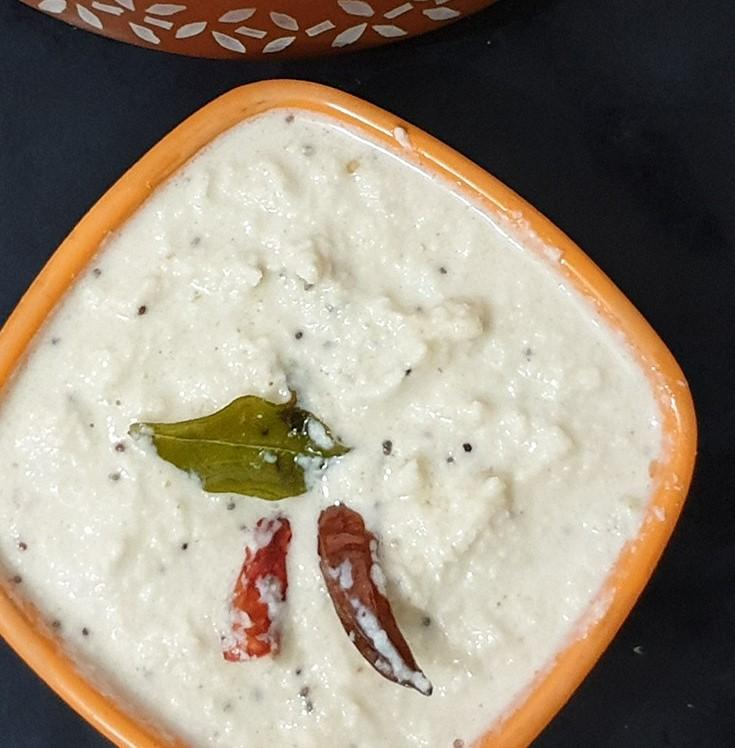CoconutChutney: (0, 108, 666, 748)
